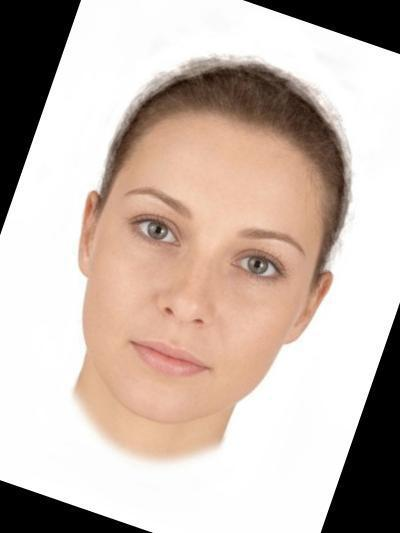Sober: (109, 130, 308, 396)
